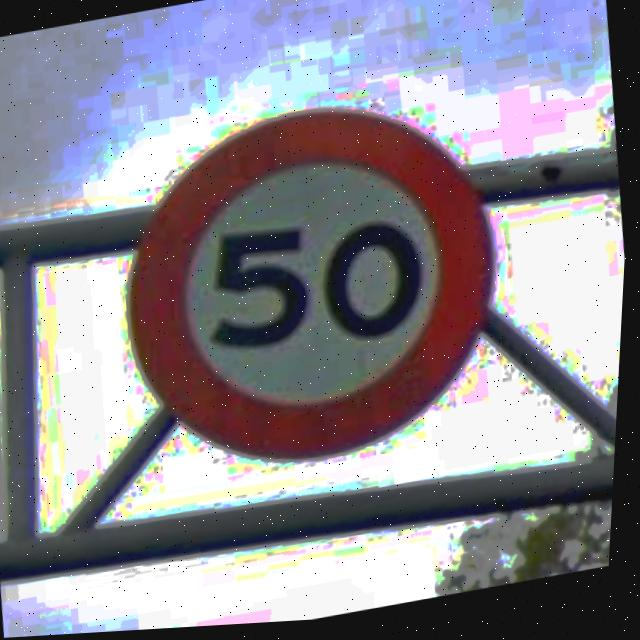max50: (100, 78, 527, 495)
